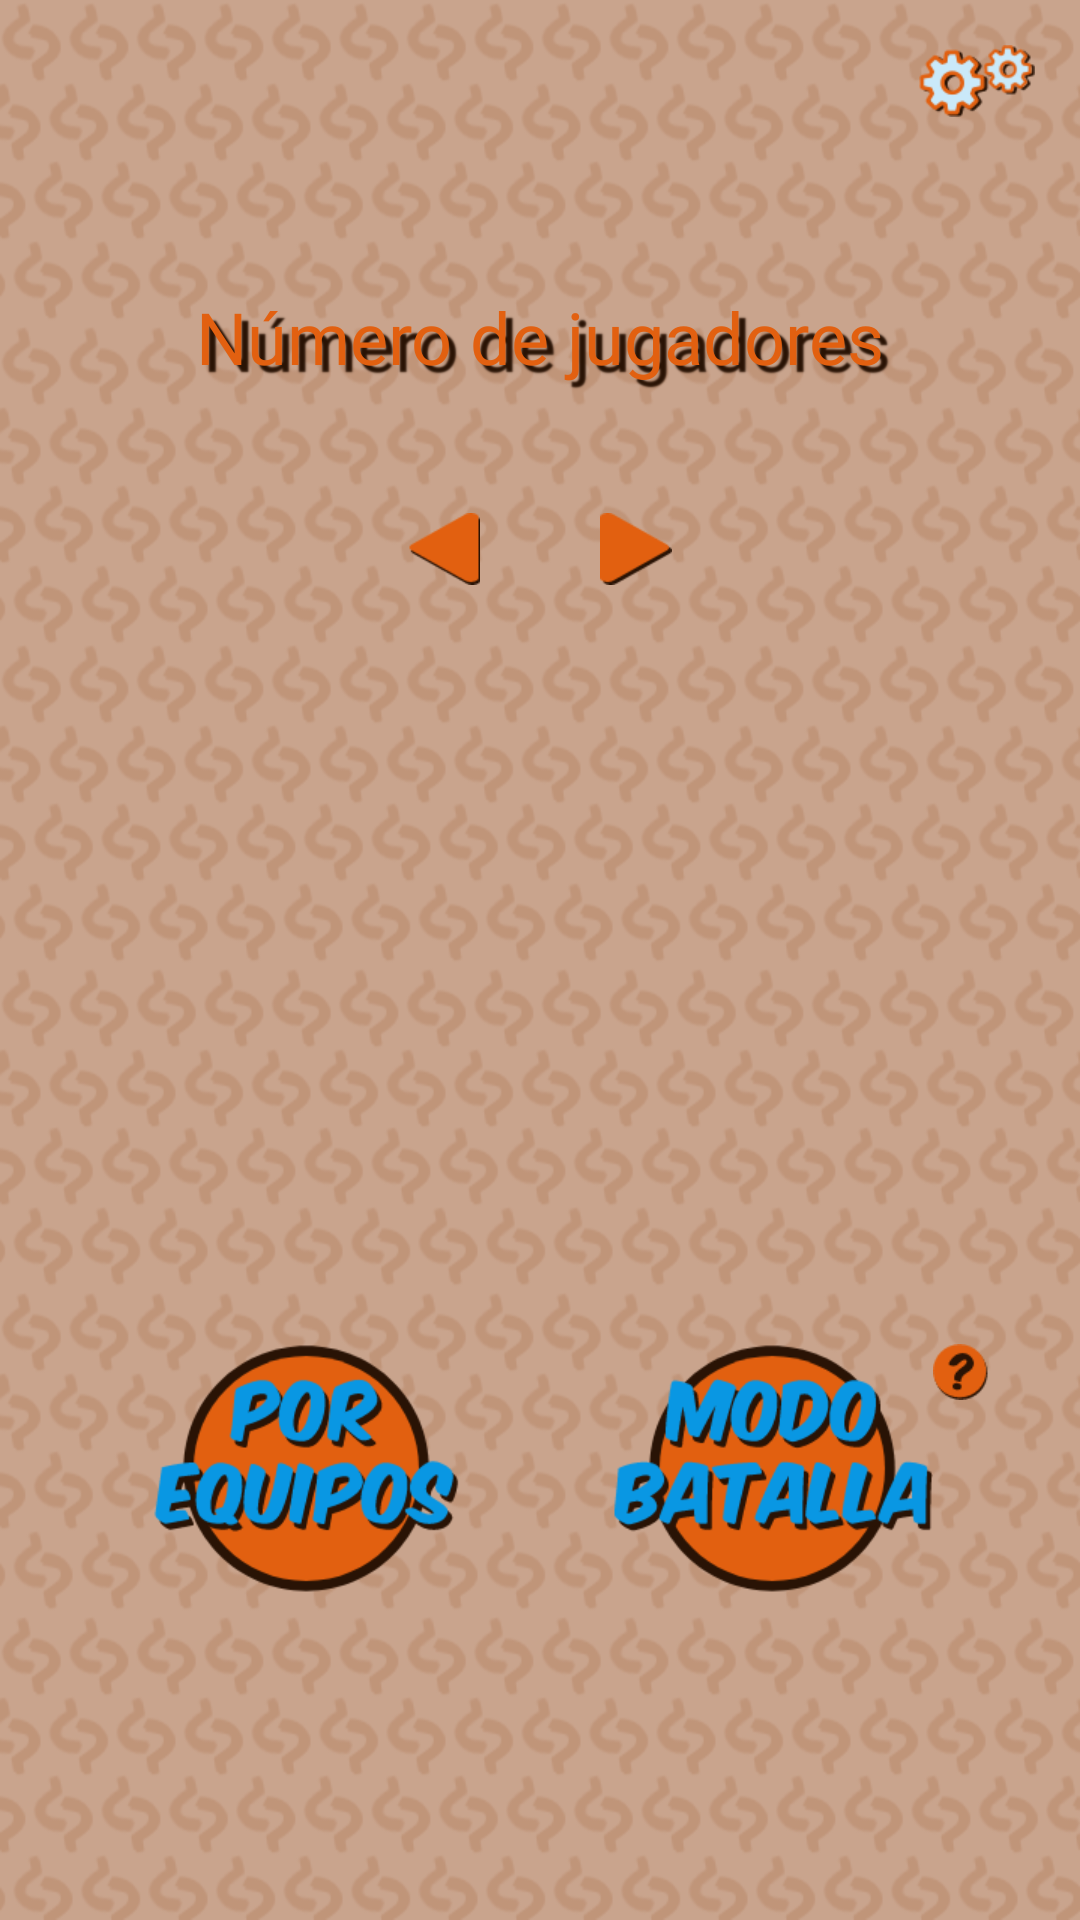

Icon click points for this 1080x1920 phone screenshot, format [x,y]:
Botón para añadir un jugador: [636,549]
Botón para restar un jugador: [444,549]
btndudas: [960,1372]
btnpreferencias: [977,81]
